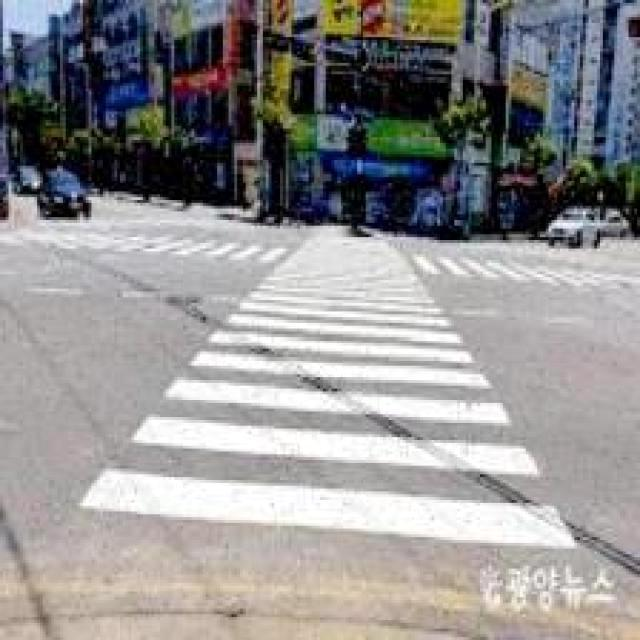crosswalk: (8, 228, 581, 638)
